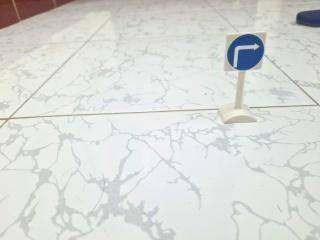right: (219, 31, 277, 82)
